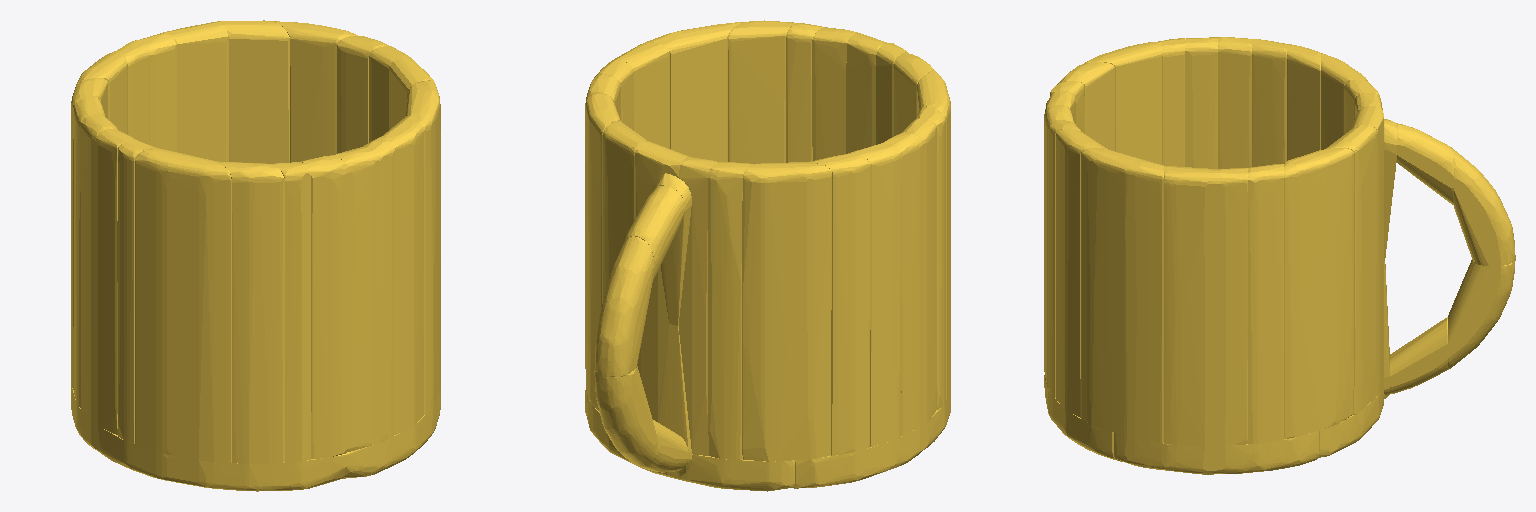
The robot description file, URDF, robot "80.urdf":
<?xml version="1.0" ?>
<robot name="80.urdf">
	<link name="baseLink">
		<inertial>
			<origin rpy="0 0 0" xyz="0 0 0"/>
				<mass value="0.1"/>
				<inertia ixx="6e-5" ixy="0" ixz="0" iyy="6e-5" iyz="0" izz="6e-5"/>
		</inertial>
		<visual>
			<origin rpy="0 0 0" xyz="0 0 0"/>
			<geometry>
				<mesh filename="4_decom_wt.obj" scale="1.06 1.06 0.80"/>
			</geometry>
			<material name="yellow">
				<color rgba="0.98 0.84 0.35 1"/>
			</material>
		</visual>
		<collision>
			<origin rpy="0 0 0" xyz="0 0 0"/>
			<geometry>
				<mesh filename="4_decom_wt.obj" scale="1.06 1.06 0.80"/>
			</geometry>
		</collision>
	</link>
</robot>

--- Render facts (derived) ---
The picture shows the robot from 3 angles, left to right: view 1: azimuth 30°, elevation 25°; view 2: azimuth 150°, elevation 25°; view 3: azimuth 270°, elevation 25°; orthographic projection.
Model 80.urdf with 1 links and 0 joints (none), rooted at baseLink, posed all joints at 0.
Visible links, largest first — view 1: baseLink; view 2: baseLink; view 3: baseLink.
Link boxes in pixels (x1,y1,x2,y2): baseLink: (71, 20, 440, 491); baseLink: (585, 20, 950, 491); baseLink: (1044, 37, 1515, 474).
Bounding box of the posed robot: 0.0888 × 0.1231 × 0.0869 m (x, y, z).
Meshes: 1 distinct files referenced, 1 mesh visuals loaded (1 OBJ).